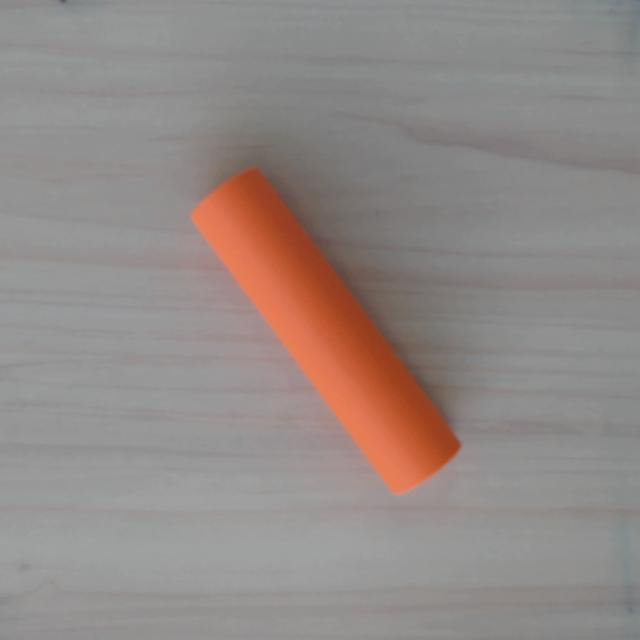Silinder-Jingga-10025: (185, 161, 467, 501)
